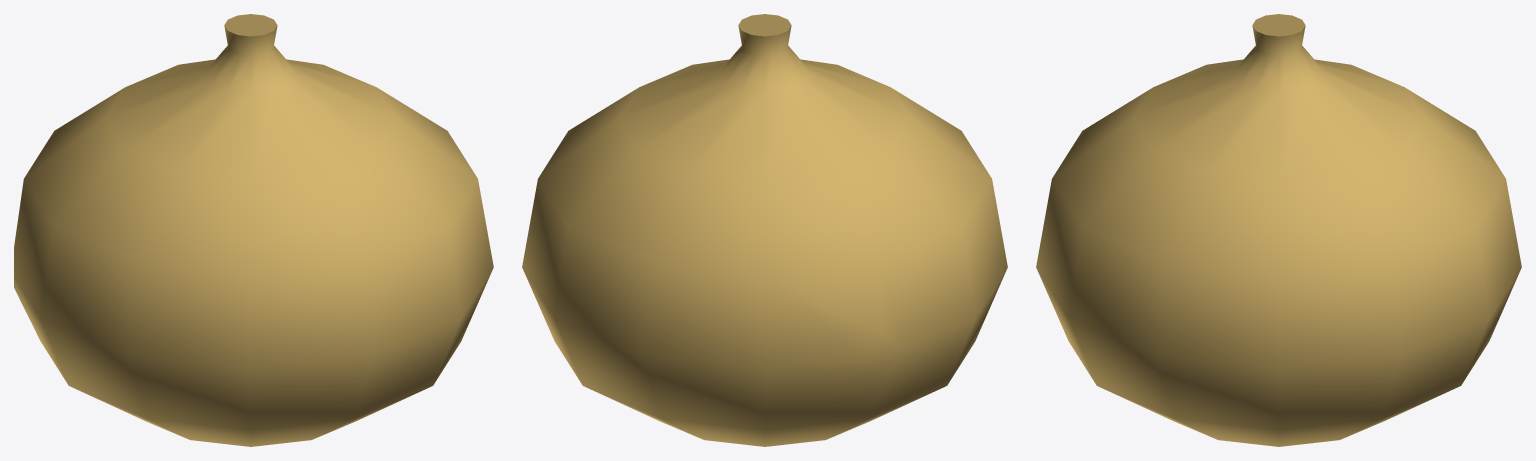
Rendered from onion.FBX.
3 renders of one model, left to right at view 1: azimuth 30°, elevation 25°; view 2: azimuth 150°, elevation 25°; view 3: azimuth 270°, elevation 25°, orthographic.
Parts seen in each view (by area): view 1: Onion; view 2: Onion; view 3: Onion.
Part boxes in pixels (x1,y1,x2,y2): Onion: [14, 14, 493, 446]; Onion: [522, 14, 1007, 446]; Onion: [1036, 14, 1521, 446].
Bounding box in the file's own units: 11.89 × 10.41 × 11.89.
1 material, 1 textured.
